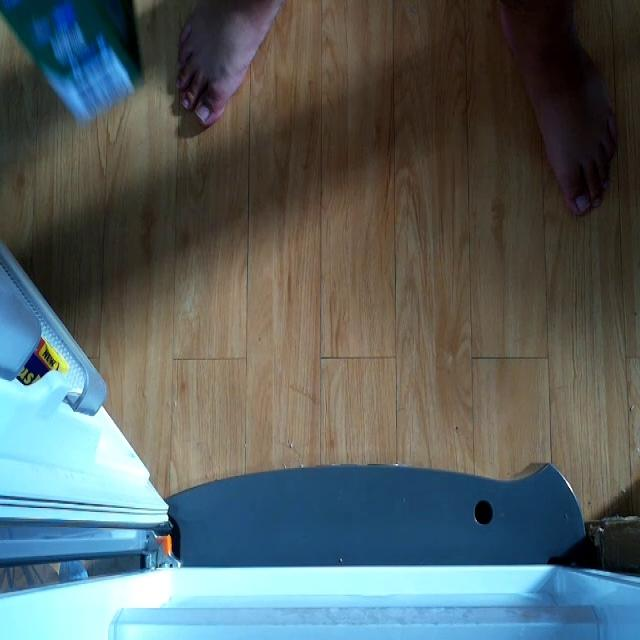milk: (0, 0, 145, 123)
